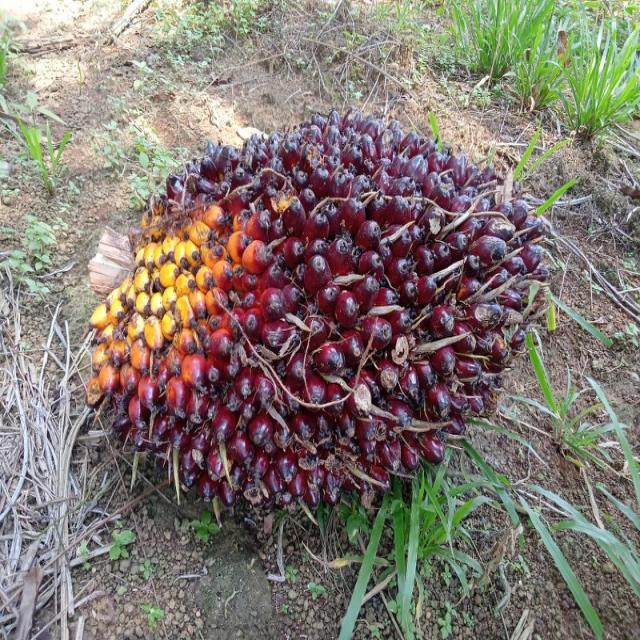fraksi 1: (74, 108, 574, 535)
